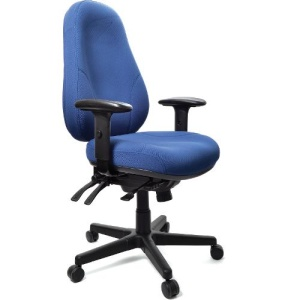chair: (62, 1, 226, 300)
